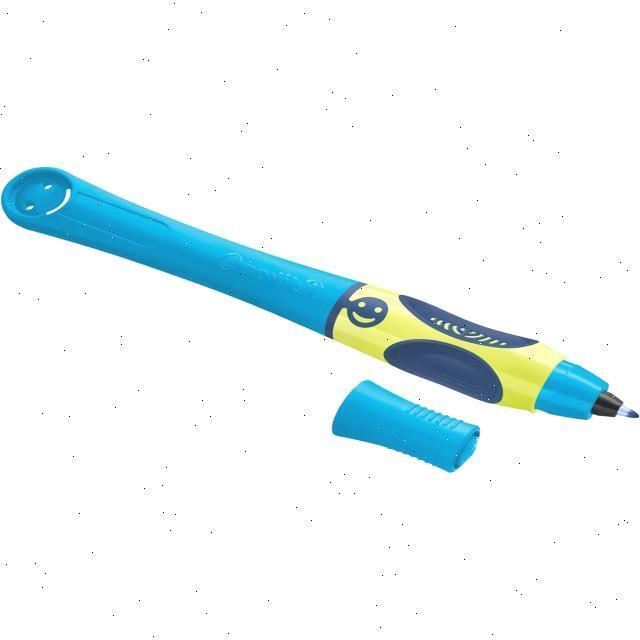pen: (2, 165, 639, 424)
